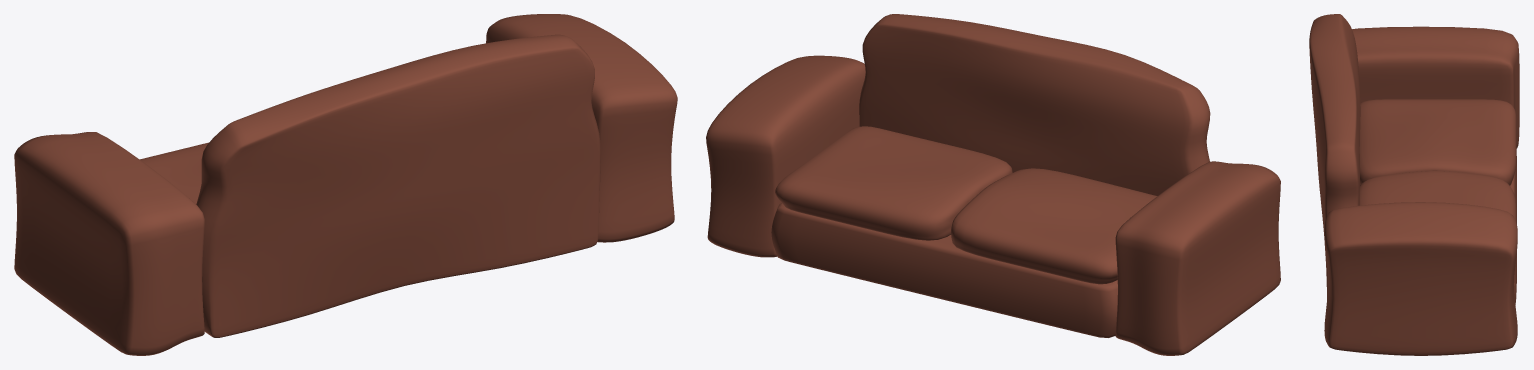
Rendered from Double_Chair.fbx.
3 renders of one model, left to right at view 1: azimuth 30°, elevation 25°; view 2: azimuth 150°, elevation 25°; view 3: azimuth 270°, elevation 25°, orthographic. The views are drawn at different scales.
Visible parts, largest first — view 1: Couch_Back.001, Couch_Arm.R.001, Couch_Arm.L.001, Couch_Cusion.001; view 2: Couch_Back.001, Couch_Cusion.001, Couch_Arm.R.001, Couch_Arm.L.001, Couch_Base.001; view 3: Couch_Arm.L.001, Couch_Cusion.001, Couch_Arm.R.001, Couch_Back.001, Couch_Base.001.
Boxes of the visible parts, box(x1,y1,x2,y2) form: Couch_Back.001: box(196, 34, 600, 337); Couch_Arm.R.001: box(14, 132, 204, 355); Couch_Arm.L.001: box(486, 14, 677, 242); Couch_Cusion.001: box(140, 142, 208, 203); Couch_Back.001: box(859, 14, 1210, 195); Couch_Cusion.001: box(775, 126, 1157, 284); Couch_Arm.R.001: box(1115, 161, 1280, 355); Couch_Arm.L.001: box(706, 55, 865, 257); Couch_Base.001: box(771, 203, 1117, 337); Couch_Arm.L.001: box(1324, 202, 1517, 355); Couch_Cusion.001: box(1359, 99, 1516, 222); Couch_Arm.R.001: box(1352, 26, 1519, 148); Couch_Back.001: box(1309, 14, 1360, 298); Couch_Base.001: box(1510, 147, 1516, 304).
Bounding box in the file's own units: 458 × 179 × 186.
